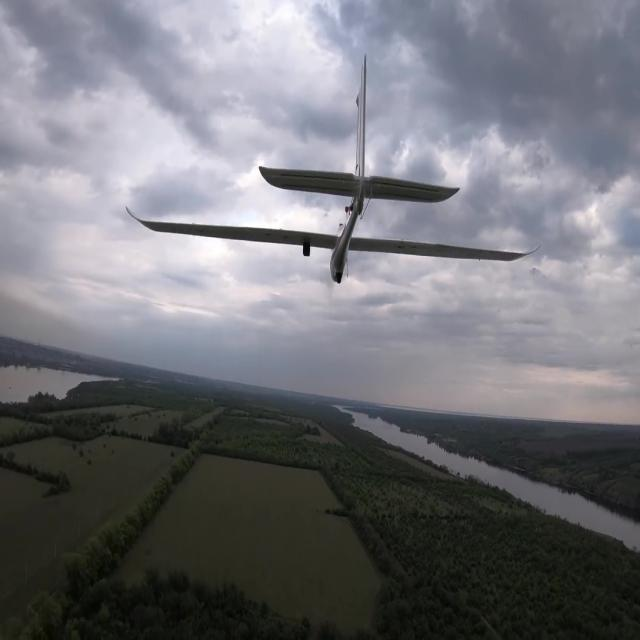iha: (111, 42, 533, 290)
